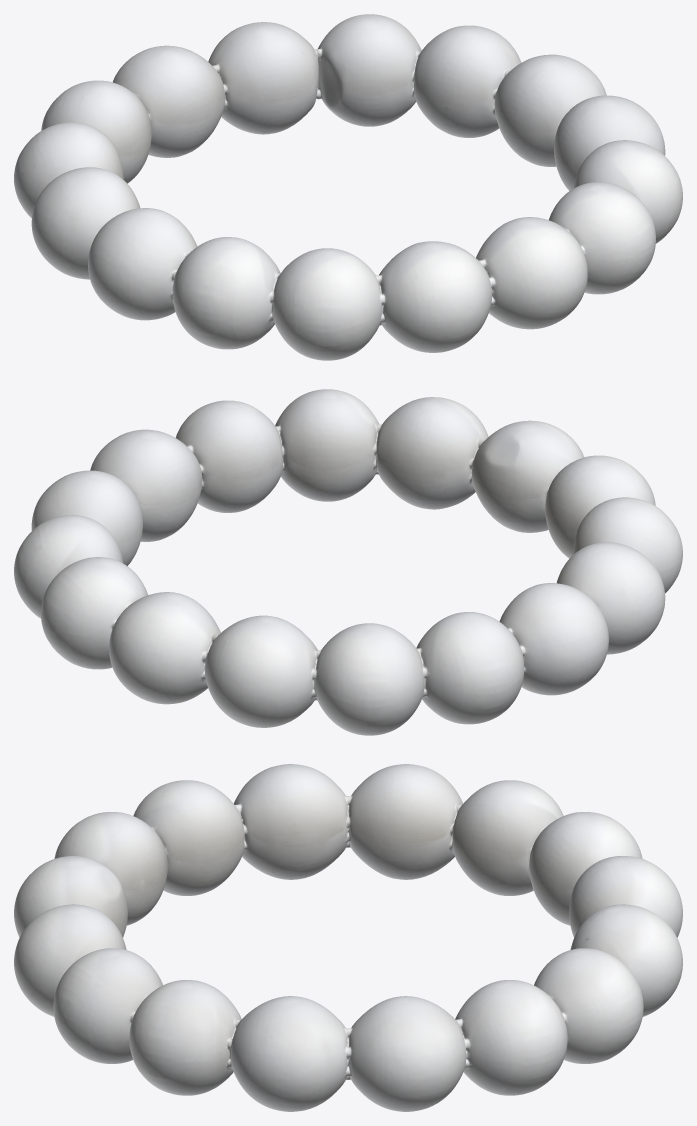
File: gem_whitejade.glb
3 renders of one model, top to bottom at view 1: azimuth 30°, elevation 25°; view 2: azimuth 150°, elevation 25°; view 3: azimuth 270°, elevation 25°, orthographic. The views are drawn at different scales.
Visible parts, largest first — view 1: Mesh_0.001; view 2: Mesh_0.001; view 3: Mesh_0.001.
Part boxes in pixels (bbox=[...]): Mesh_0.001: bbox=[14, 14, 682, 360]; Mesh_0.001: bbox=[14, 389, 682, 735]; Mesh_0.001: bbox=[14, 764, 682, 1111].
Size of the model in its own units: 0.4042 by 0.07 by 0.4042.
1 material, 1 textured.
